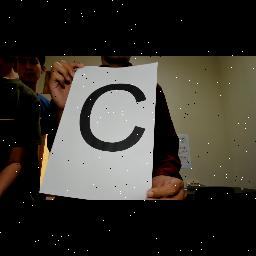c: (76, 80, 150, 154)
